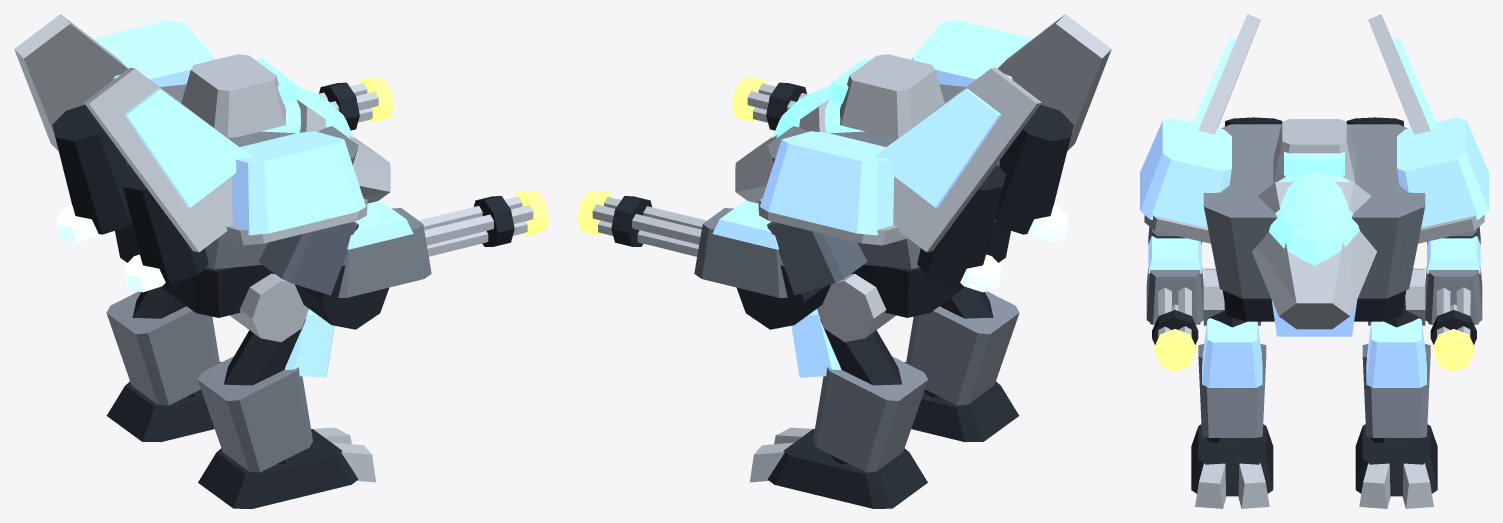
File: kestrel_assault.glb
3 renders of one model, left to right at view 1: azimuth 30°, elevation 25°; view 2: azimuth 150°, elevation 25°; view 3: azimuth 270°, elevation 25°, orthographic. The views are drawn at different scales.
Visible parts, largest first — view 1: Surf_hull, Surf_TEAM, Surf_dark, Surf_dark3, Surf_armor3, Surf_armor2, Surf_armor, Surf_dark2, Surf_hull3, Surf_heavy, Surf_canopy, Surf_TEAM3 (+2 smaller); view 2: Surf_hull, Surf_TEAM, Surf_dark, Surf_dark2, Surf_armor2, Surf_armor3, Surf_armor, Surf_dark3, Surf_hull2, Surf_heavy, Surf_canopy, Surf_TEAM2 (+2 smaller); view 3: Surf_armor, Surf_TEAM, Surf_hull, Surf_canopy, Surf_dark, Surf_TEAM3, Surf_TEAM2, Surf_dark2, Surf_dark3, Surf_armor2, Surf_armor3, Surf_hull3 (+3 smaller).
Boxes of the visible parts, box(x1,y1,x2,y2) form: Surf_hull: box(14, 14, 533, 256); Surf_TEAM: box(94, 20, 413, 249); Surf_dark: box(52, 82, 514, 329); Surf_dark3: box(198, 319, 358, 508); Surf_armor3: box(197, 356, 312, 472); Surf_armor2: box(106, 291, 219, 405); Surf_armor: box(104, 84, 431, 297); Surf_dark2: box(106, 287, 221, 441); Surf_hull3: box(230, 273, 376, 482); Surf_heavy: box(258, 221, 358, 295); Surf_canopy: box(256, 58, 353, 138); Surf_TEAM3: box(284, 309, 334, 377); Surf_hull: box(592, 14, 1111, 256); Surf_TEAM: box(712, 20, 1031, 249); Surf_dark: box(611, 82, 1073, 329); Surf_dark2: box(767, 319, 927, 508); Surf_armor2: box(813, 356, 928, 472); Surf_armor3: box(906, 291, 1019, 405); Surf_armor: box(694, 84, 1021, 297); Surf_dark3: box(904, 287, 1019, 441); Surf_hull2: box(749, 273, 895, 482); Surf_heavy: box(767, 221, 867, 295); Surf_canopy: box(772, 58, 869, 138); Surf_TEAM2: box(791, 309, 841, 377); Surf_armor: box(1146, 124, 1482, 324); Surf_TEAM: box(1140, 37, 1488, 336); Surf_hull: box(1144, 14, 1484, 337); Surf_canopy: box(1269, 151, 1359, 265); Surf_dark: box(1150, 117, 1478, 344); Surf_TEAM3: box(1202, 318, 1262, 387); Surf_TEAM2: box(1366, 318, 1426, 387); Surf_dark2: box(1355, 297, 1437, 496); Surf_dark3: box(1191, 303, 1273, 496); Surf_armor2: box(1362, 344, 1430, 437); Surf_armor3: box(1198, 344, 1266, 437); Surf_hull3: box(1195, 268, 1269, 508).
Size of the model in its own units: 2.38 by 2.47 by 1.95.
